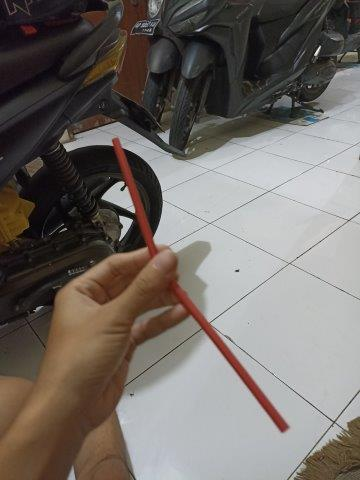sedotan: (113, 138, 290, 431)
